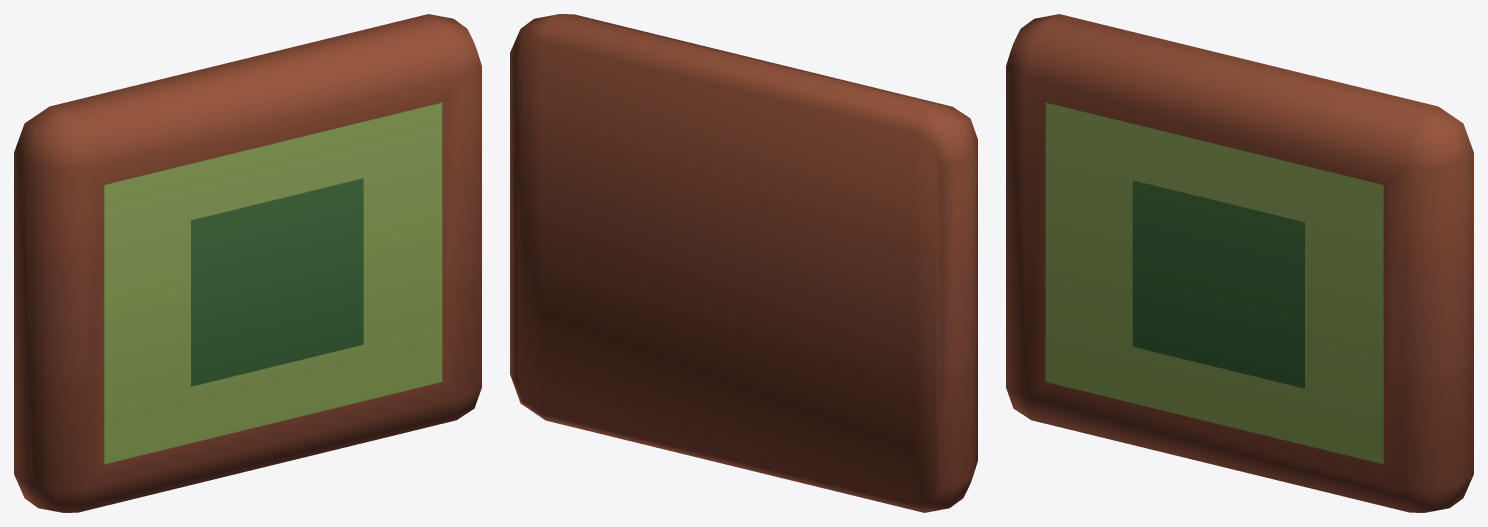
File: Picture_20.glb
The picture shows the model from 3 angles, left to right: view 1: azimuth 30°, elevation 25°; view 2: azimuth 150°, elevation 25°; view 3: azimuth 330°, elevation 25°; orthographic projection.
Parts seen in each view (by area): view 1: Picture_20; view 2: Picture_20; view 3: Picture_20.
Boxes of the visible parts, left/top/right/bottom form: Picture_20: left=14, top=14, right=481, bottom=512; Picture_20: left=510, top=14, right=977, bottom=512; Picture_20: left=1006, top=14, right=1473, bottom=512.
Size of the model in its own units: 0.38 by 0.32 by 0.06.
1 material, 1 textured.
